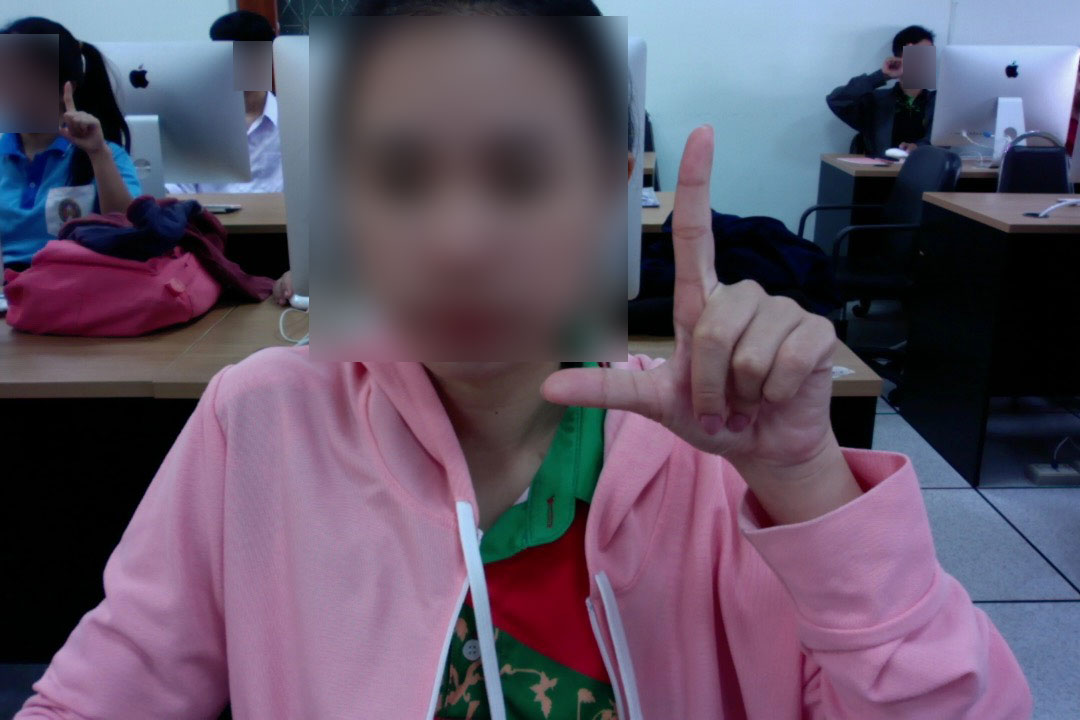lor: (527, 114, 887, 492)
